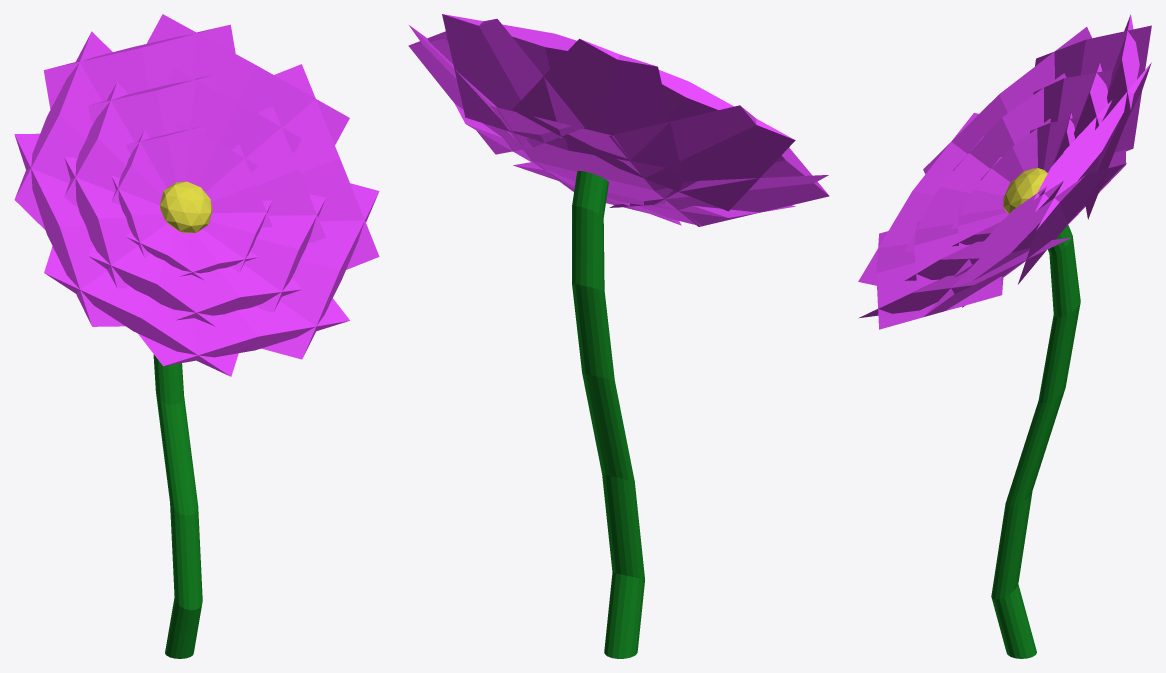
The model's file is fleur montagne.fbx.
3 views of the same model, side by side, from view 1: azimuth 30°, elevation 25°; view 2: azimuth 150°, elevation 25°; view 3: azimuth 270°, elevation 25° (orthographic). The views are drawn at different scales.
Parts seen in each view (by area): view 1: Cylinder; view 2: Cylinder; view 3: Cylinder.
Boxes of the visible parts, box(x1,y1,x2,y2) form: Cylinder: box(14, 14, 379, 658); Cylinder: box(408, 14, 829, 658); Cylinder: box(858, 14, 1151, 658).
Bounding box in the file's own units: 178 × 295 × 128.
